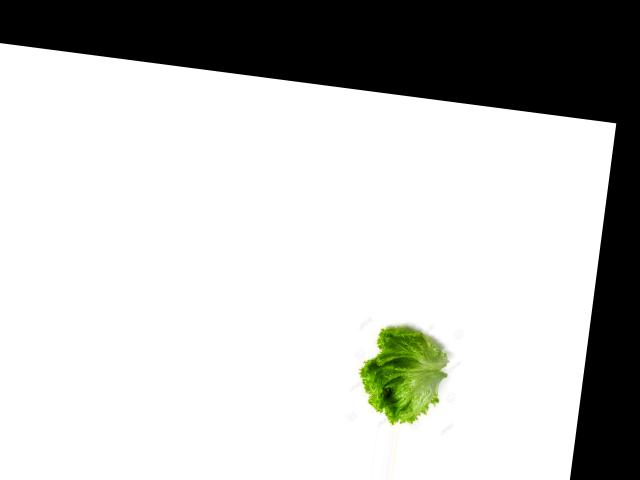lettuce: (357, 315, 455, 432)
